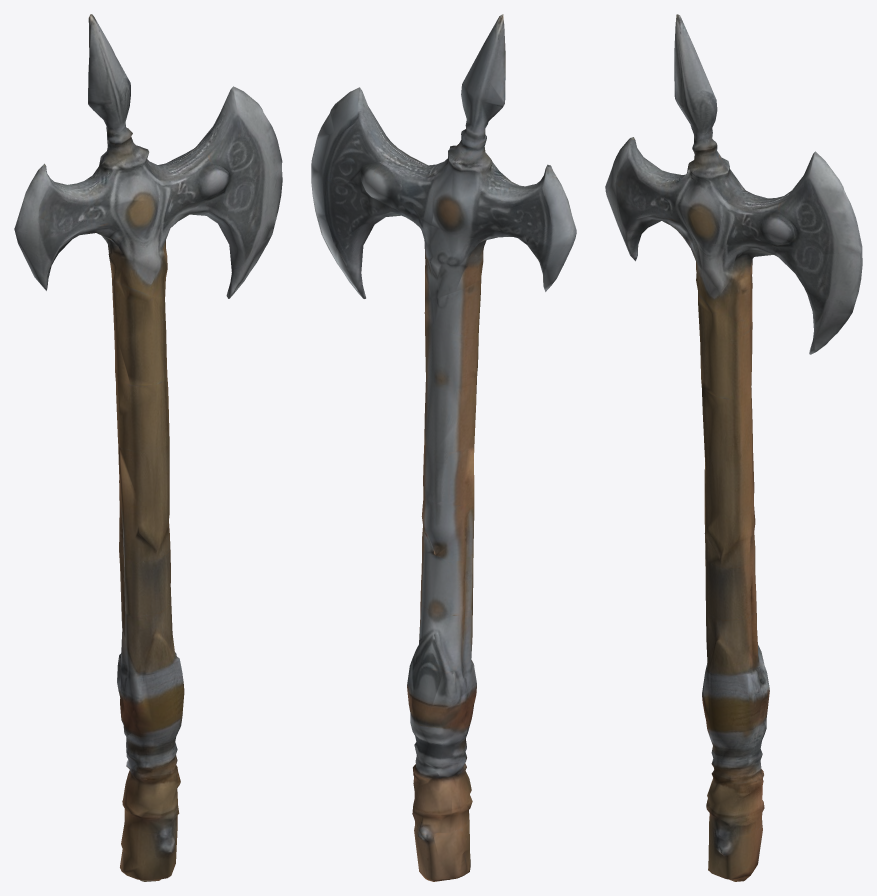
Rendered from 1639_halberd.glb.
3 views of the same model, side by side, from view 1: azimuth 30°, elevation 25°; view 2: azimuth 150°, elevation 25°; view 3: azimuth 330°, elevation 25° (orthographic). The views are drawn at different scales.
Visible parts, largest first — view 1: Model; view 2: Model; view 3: Model.
Part boxes in pixels (x1,y1,x2,y2): Model: (14, 14, 282, 881); Model: (311, 14, 576, 881); Model: (605, 14, 862, 881).
Size of the model in its own units: 0.3176 by 1 by 0.0715.
1 material, 1 textured.
